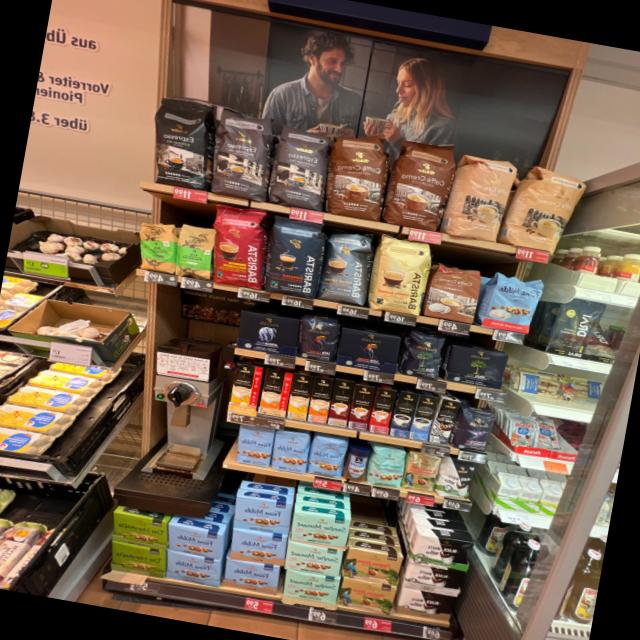AB Gemahlen: (234, 309, 302, 357)
Athiopien Bohne: (134, 216, 180, 274)
Athiopien Gemahlen: (170, 222, 216, 281)
BM Bohne: (401, 330, 446, 380)
BM Gemahlen: (444, 343, 508, 391)
BW Bohne: (434, 456, 478, 504)
BW Gemahlen: (410, 530, 476, 574), (394, 586, 456, 624), (401, 562, 465, 598)
Barista CB: (367, 234, 433, 317)
Barista CC: (316, 228, 374, 306)
Barista Espresso: (260, 215, 326, 299)
Barista Kolumbien: (203, 202, 270, 289)
C Fino Bohne: (454, 406, 496, 454)
CC Mild: (503, 162, 591, 256), (444, 149, 518, 244)
CC Vollmundig: (423, 260, 485, 326)
CC Vollmundig 36 Pads: (383, 133, 458, 232), (321, 124, 394, 220)
Colombia BB Bohne: (401, 449, 442, 494)
Colombia BB Gemahlen: (335, 574, 398, 616), (342, 546, 404, 586)
Espresso M Art: (206, 106, 278, 202), (266, 122, 334, 211)
Espresso S Art: (142, 92, 220, 192)
FM 36 Pads: (480, 270, 547, 337)
FM Bohne: (268, 426, 311, 474), (306, 432, 348, 480), (233, 423, 273, 468)
FM Gemahlen: (232, 494, 294, 536), (228, 525, 288, 567), (222, 556, 282, 595), (164, 549, 222, 589), (164, 522, 224, 559)
FM Instant: (340, 442, 372, 484)
Herzhatfe Mundig: (106, 510, 170, 550), (107, 540, 166, 579)
LG Bohne: (294, 310, 342, 364)
LG Gemahlen: (336, 324, 403, 376)
SM Bohne: (365, 442, 407, 488)
SM Gemahlen: (289, 506, 352, 550), (283, 539, 344, 578), (282, 568, 342, 606)
Simo CCMild: (228, 362, 263, 413)
Simo CCMild bigpack: (286, 372, 313, 420)
Simo CCVollmundig: (258, 368, 294, 418)
Simo CCVollmundig bigpack: (306, 375, 334, 423)
Simo Es Brazil: (368, 386, 398, 434)
Simo Es Caramel: (327, 378, 354, 428), (348, 382, 376, 430)
Simo Es Elegant: (427, 398, 460, 445)
Simo Es Kraft: (388, 390, 420, 438)
Simo Es Vanilla: (408, 394, 438, 442)
